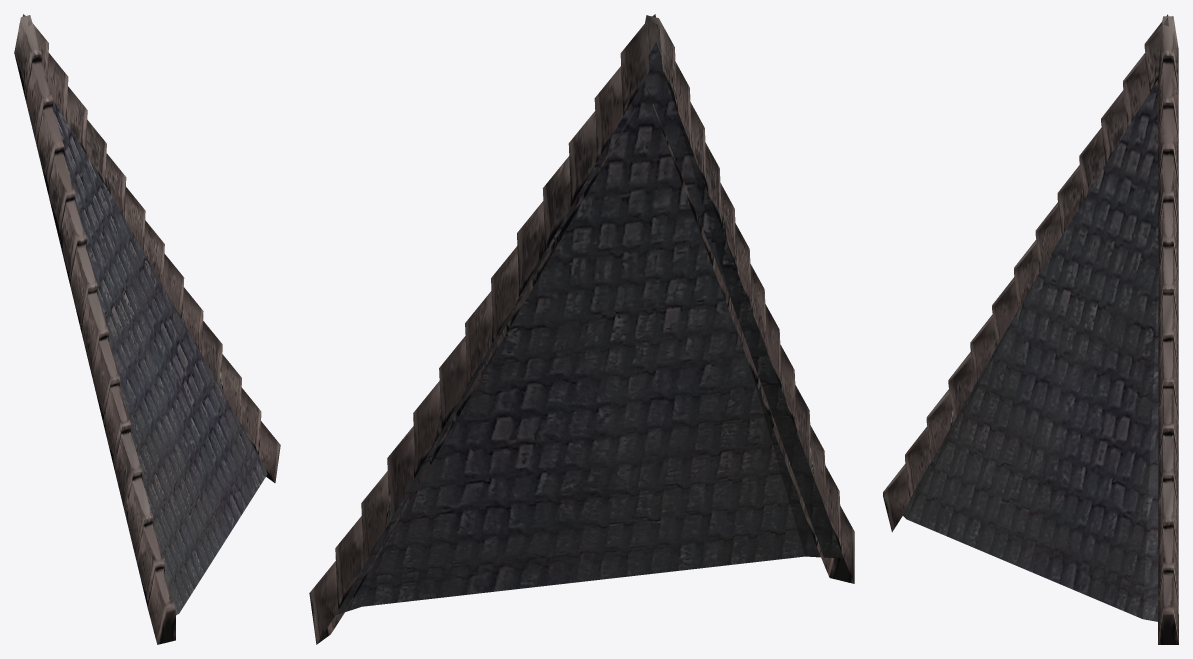
The model's file is RoofCornerDiag1x5-1A.fbx.
3 renders of one model, left to right at view 1: azimuth 30°, elevation 25°; view 2: azimuth 150°, elevation 25°; view 3: azimuth 270°, elevation 25°, orthographic. The views are drawn at different scales.
Visible parts, largest first — view 1: RoofCornerDiag1x5-1A; view 2: RoofCornerDiag1x5-1A; view 3: RoofCornerDiag1x5-1A.
Boxes of the visible parts, box(x1,y1,x2,y2) form: RoofCornerDiag1x5-1A: box(14, 14, 280, 644); RoofCornerDiag1x5-1A: box(309, 14, 854, 644); RoofCornerDiag1x5-1A: box(883, 14, 1178, 644).
Bounding box in the file's own units: 282 × 538 × 282.
